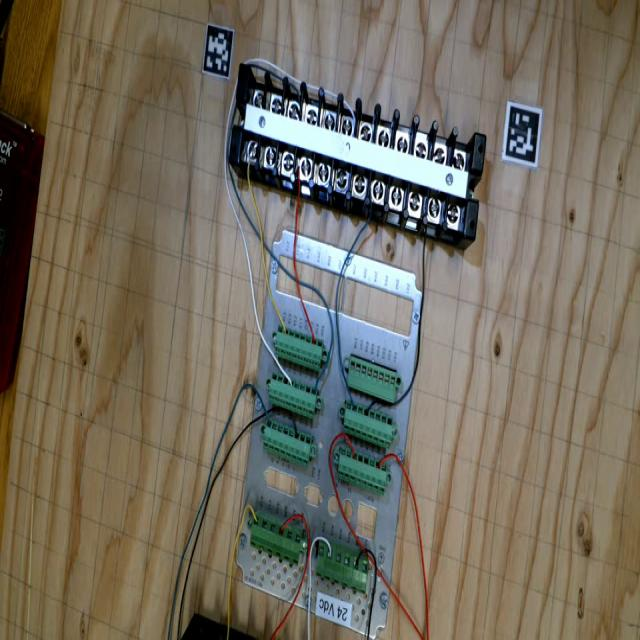Phillips_Block: (211, 60, 504, 238)
Terminal_1: (308, 541, 378, 594), (243, 512, 311, 566)
Terminal_2: (330, 445, 395, 495), (256, 417, 319, 467), (336, 400, 400, 449), (268, 323, 330, 371), (262, 371, 324, 419)
